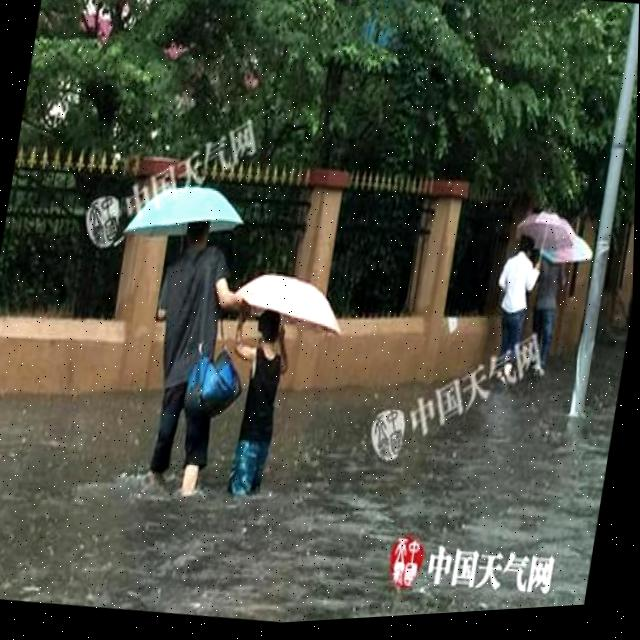civilian: (120, 204, 259, 505), (221, 299, 301, 506), (475, 216, 560, 386), (525, 245, 581, 370)
